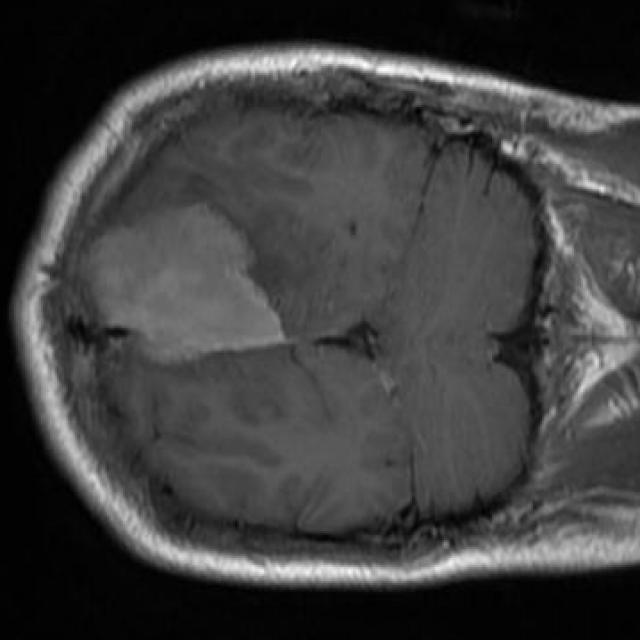meningioma: (91, 205, 283, 364)
